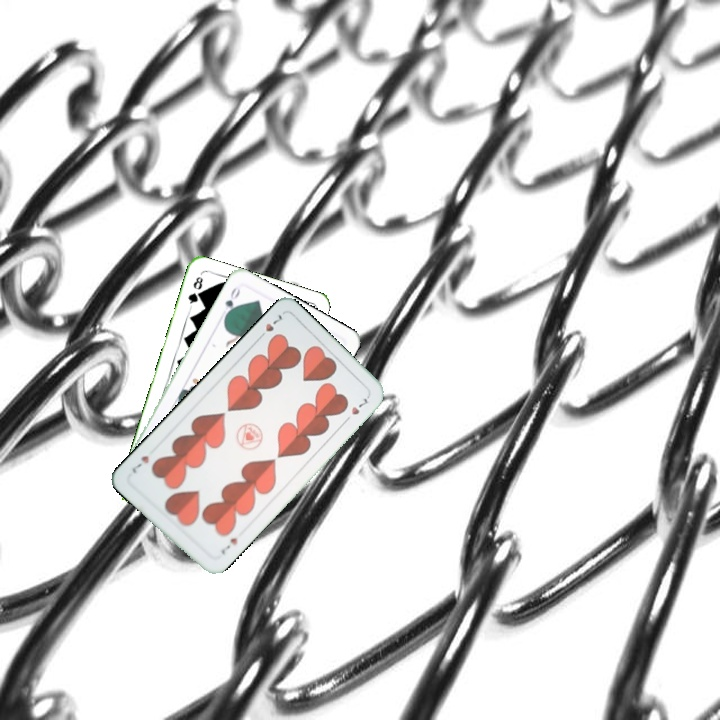G8: (184, 272, 206, 310)
GO: (220, 283, 243, 321)
H7: (254, 310, 285, 342), (217, 534, 240, 557)
